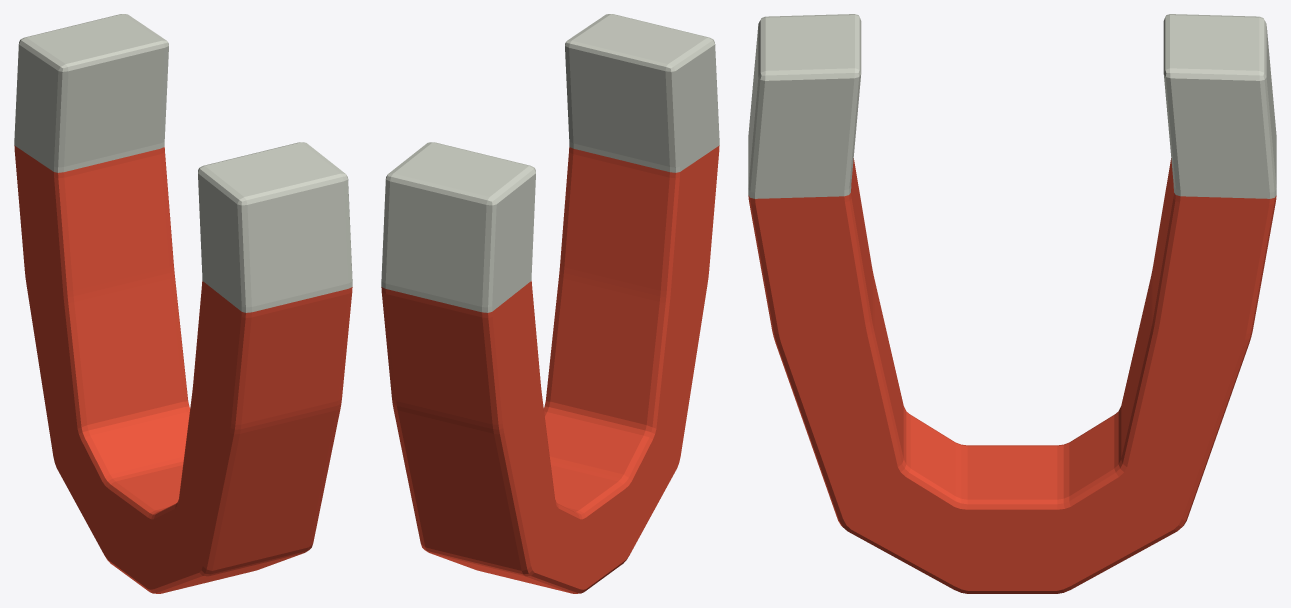
Rendered from magnet.fbx.
3 renders of one model, left to right at view 1: azimuth 30°, elevation 25°; view 2: azimuth 150°, elevation 25°; view 3: azimuth 270°, elevation 25°, orthographic. The views are drawn at different scales.
Parts seen in each view (by area): view 1: Cube; view 2: Cube; view 3: Cube.
Boxes of the visible parts, x1,y1,x2,y2 form: Cube: (14,14,352,593); Cube: (381,14,719,593); Cube: (748,14,1276,593).
Bounding box in the file's own units: 58.92 × 235 × 215.
